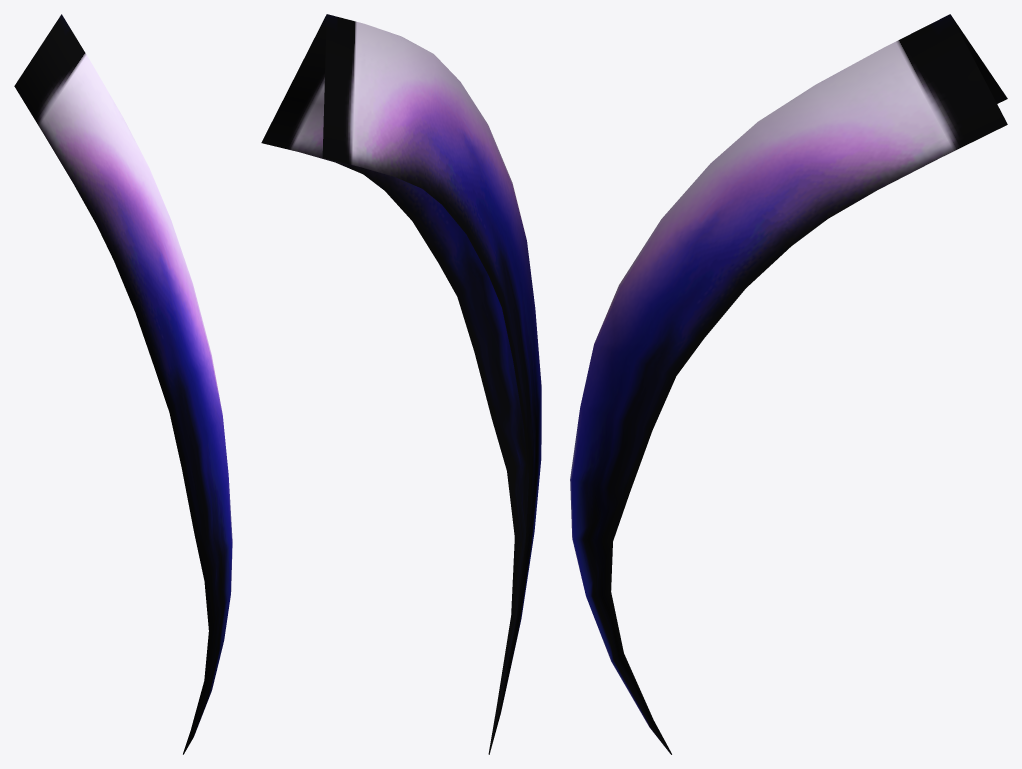
File: daoguang002.FBX
3 renders of one model, left to right at view 1: azimuth 30°, elevation 25°; view 2: azimuth 150°, elevation 25°; view 3: azimuth 270°, elevation 25°, orthographic. The views are drawn at different scales.
Visible parts, largest first — view 1: Plane004; view 2: Plane004; view 3: Plane004.
Boxes of the visible parts, box(x1,y1,x2,y2) form: Plane004: box(14, 14, 232, 754); Plane004: box(261, 14, 541, 754); Plane004: box(570, 14, 1007, 754).
Bounding box in the file's own units: 40.9 × 528 × 283.
Materials: 1 (1 with a texture image).
